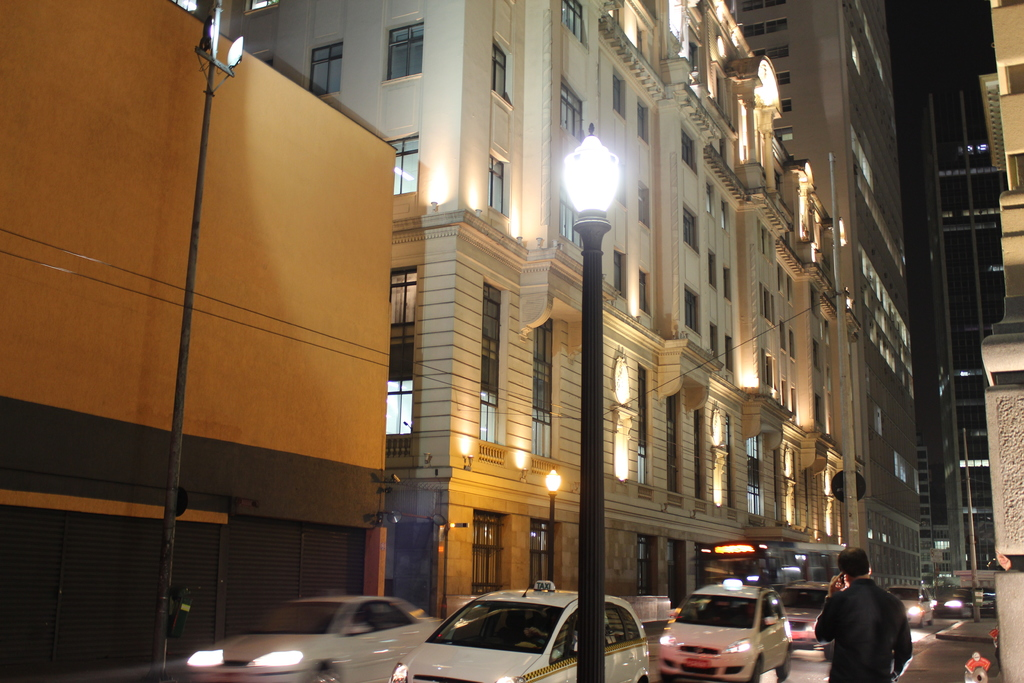Car: (184, 577, 998, 682), (388, 577, 653, 682), (173, 596, 456, 682), (653, 577, 799, 682), (884, 583, 938, 630), (933, 585, 979, 620), (967, 588, 999, 620)
